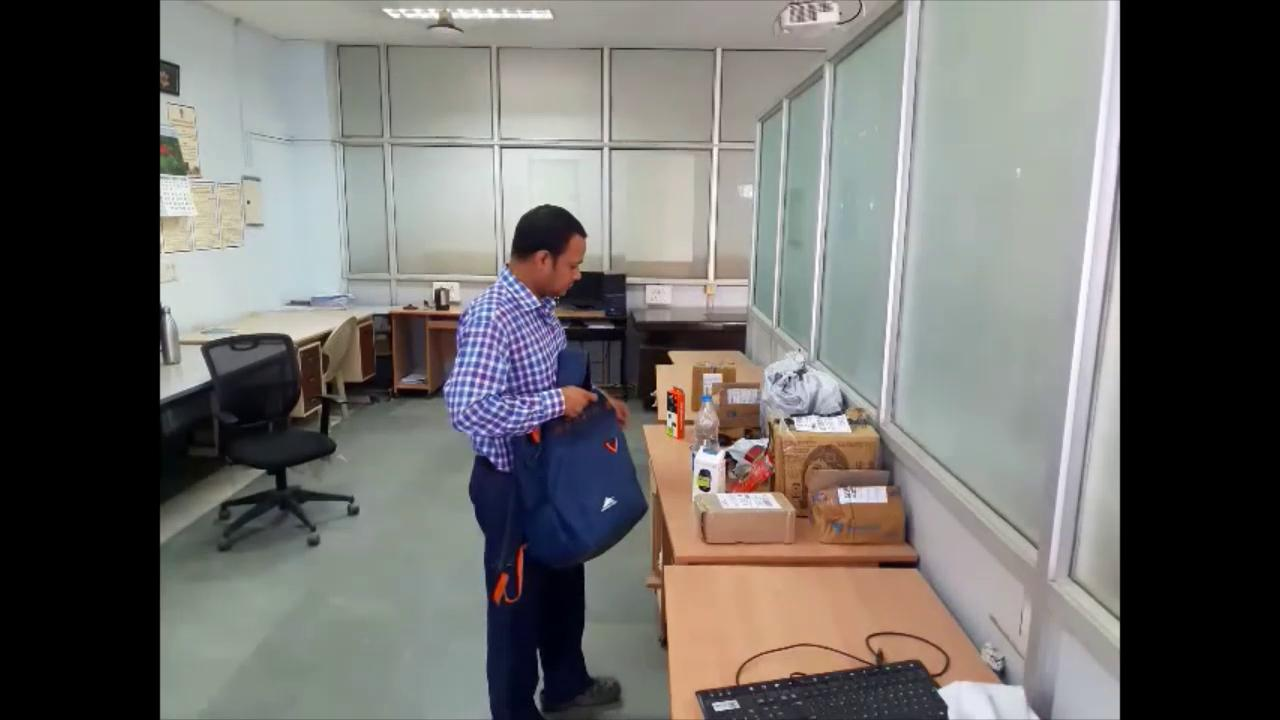shoplifting: (434, 202, 653, 716)
